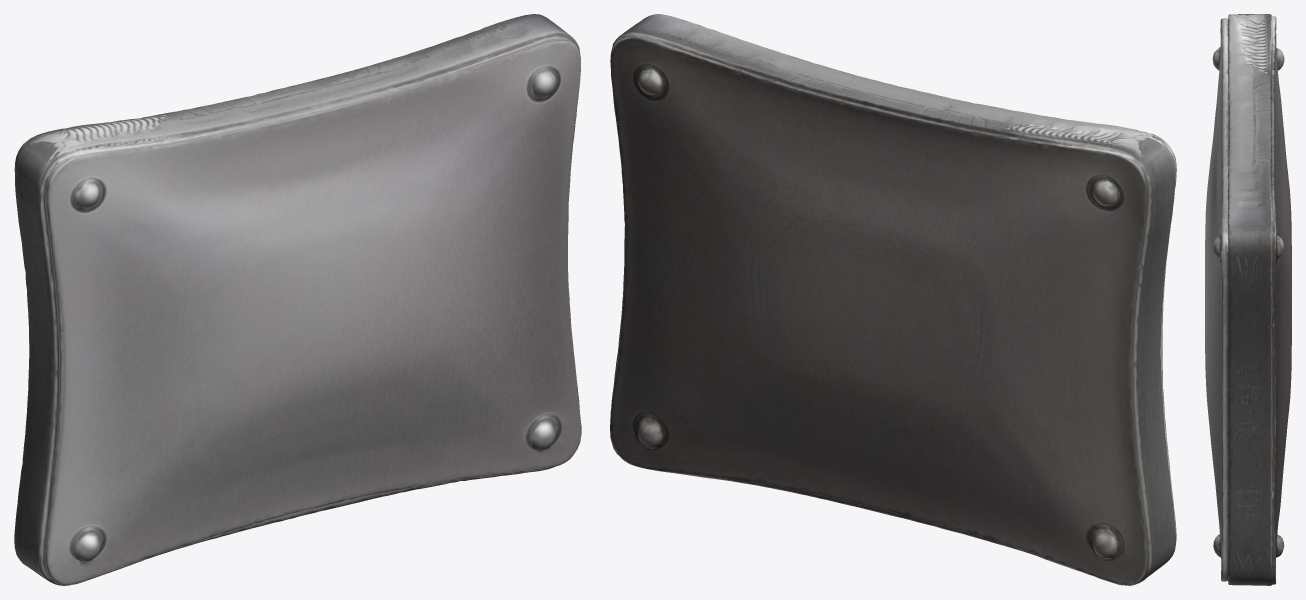
File: DDP_은색패널.glb
3 renders of one model, left to right at view 1: azimuth 30°, elevation 25°; view 2: azimuth 150°, elevation 25°; view 3: azimuth 270°, elevation 25°, orthographic. The views are drawn at different scales.
Visible parts, largest first — view 1: texture_mapping; view 2: texture_mapping; view 3: texture_mapping.
Boxes of the visible parts, box(x1,y1,x2,y2) form: texture_mapping: box(14, 14, 581, 585); texture_mapping: box(610, 14, 1176, 585); texture_mapping: box(1205, 14, 1291, 585).
Size of the model in its own units: 0.9991 by 0.7676 by 0.1639.
1 material, 1 textured.
